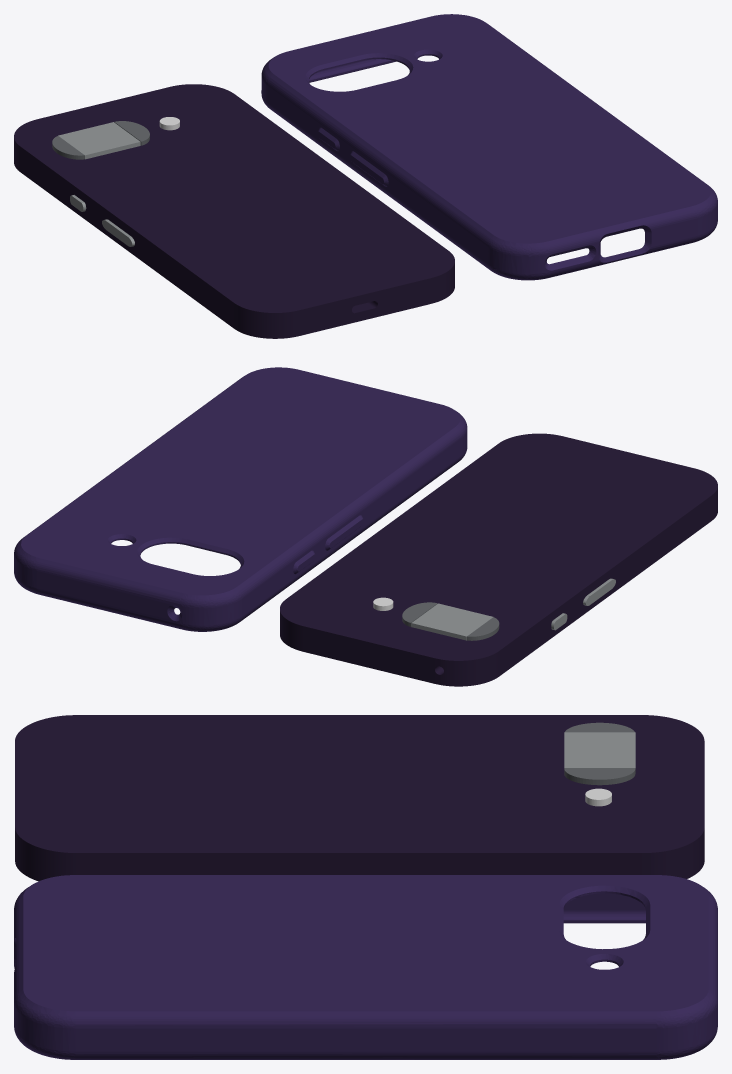
Rendered from Google Pixel V2.glb.
3 views of the same model, one above another, from view 1: azimuth 30°, elevation 25°; view 2: azimuth 150°, elevation 25°; view 3: azimuth 270°, elevation 25° (orthographic). The views are drawn at different scales.
Parts seen in each view (by area): view 1: Mesh_Mesh_head_geo.001_lambert2SG.001; view 2: Mesh_Mesh_head_geo.001_lambert2SG.001; view 3: Mesh_Mesh_head_geo.001_lambert2SG.001.
Part boxes in pixels (box(x1,y1,x2,y2)): Mesh_Mesh_head_geo.001_lambert2SG.001: box(14, 14, 717, 338); Mesh_Mesh_head_geo.001_lambert2SG.001: box(14, 367, 717, 686); Mesh_Mesh_head_geo.001_lambert2SG.001: box(14, 715, 717, 1059).
Size of the model in its own units: 0.164 by 0.012 by 0.1579.
